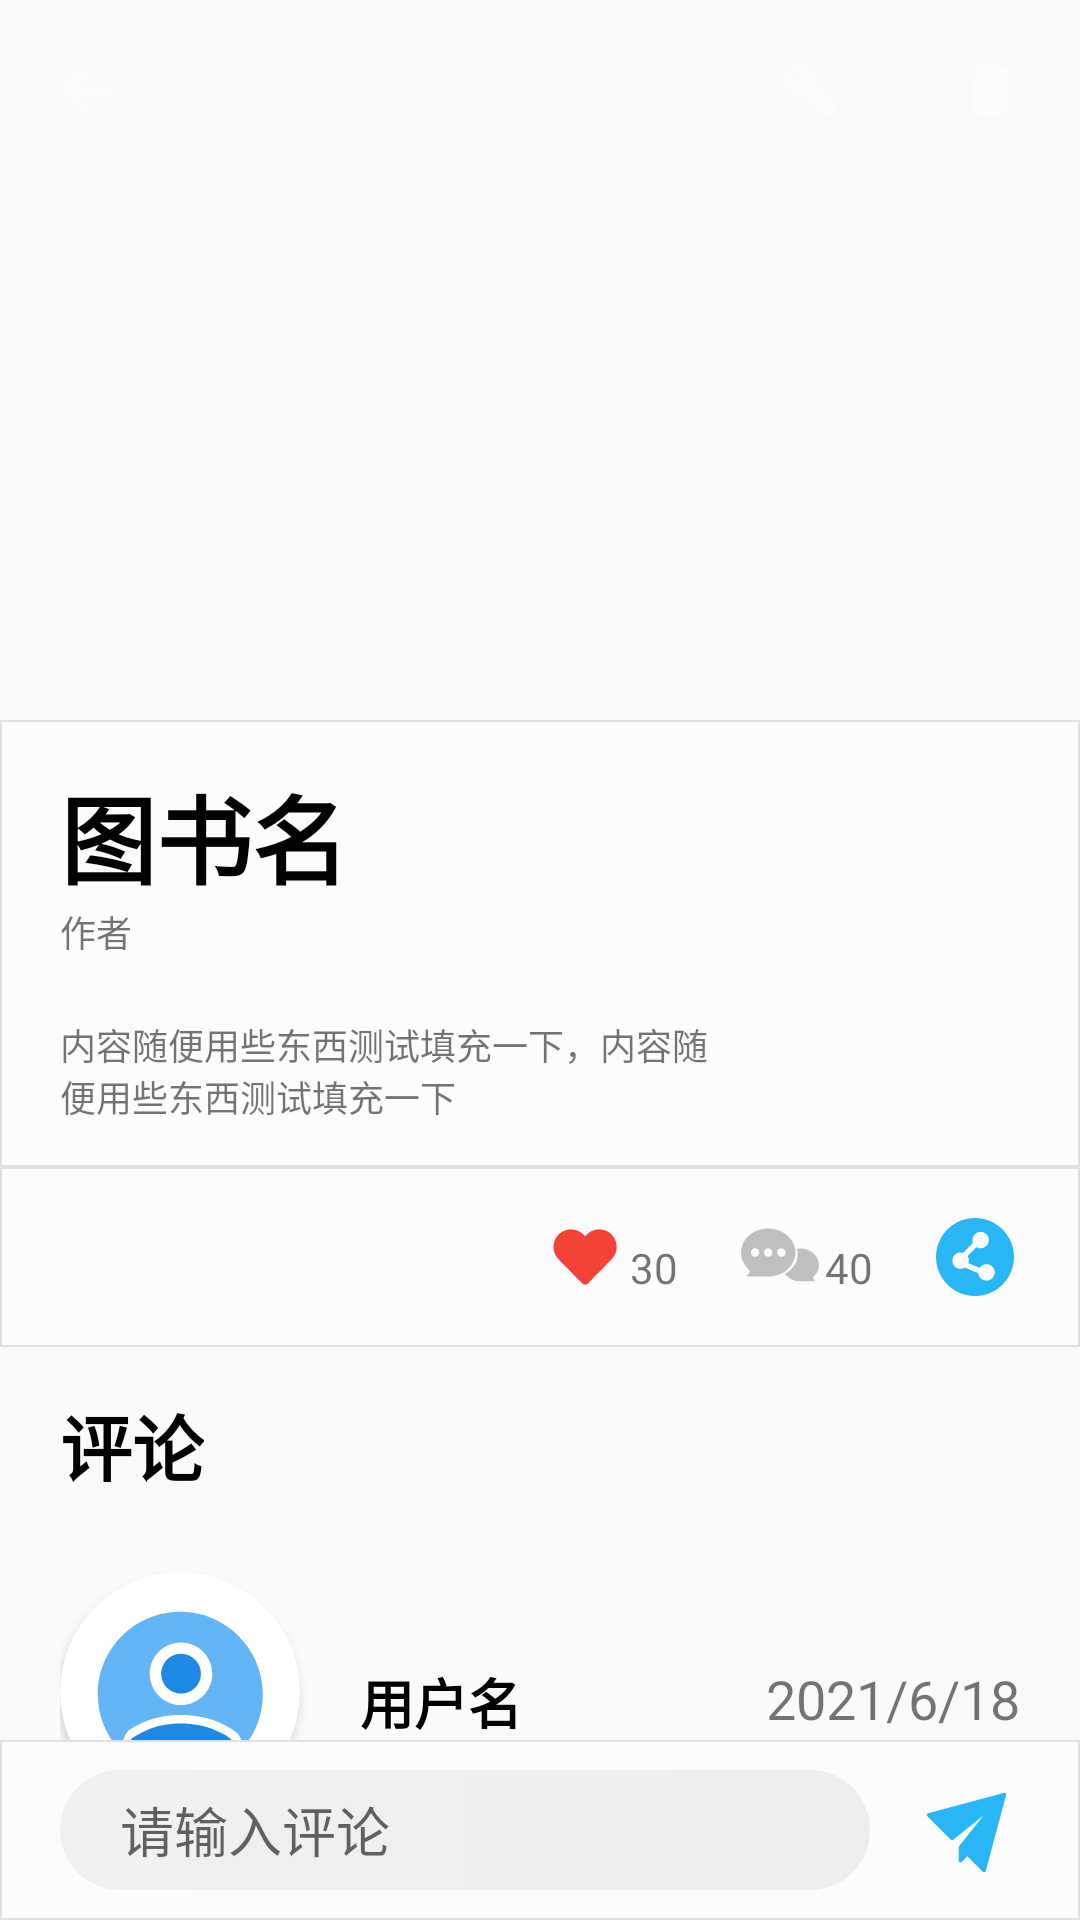

Point at icon controls on the screen. Image size 1080x1920, points as [x,y].
comment send: [966,1832]
love: [585,1257]
share: [975,1257]
